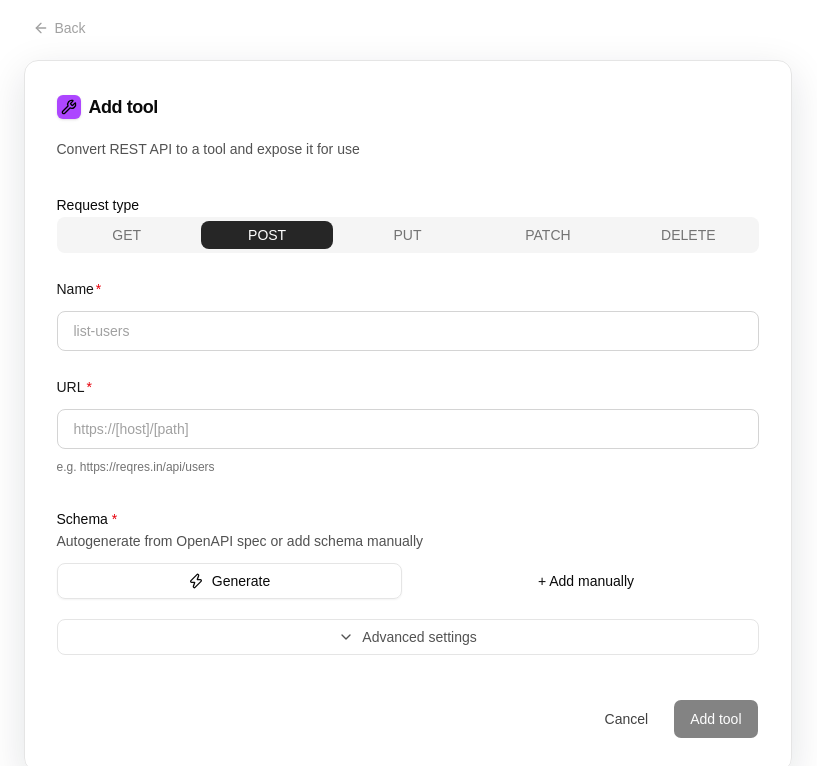
it: ToolForm › Accessibility – submit error announcement › submit error has role=alert so screen readers announce it
The width and height of the screenshot is (817, 766).
In the field labelled "Name *": x=408, y=331 [56, 311, 758, 351], type "duplicate-tool"
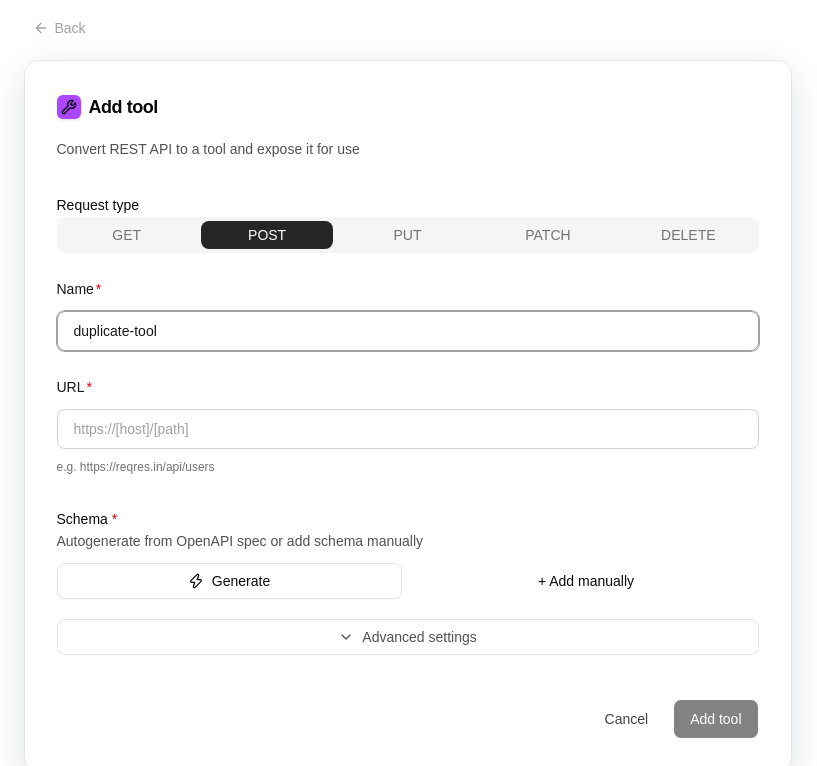
In the field labelled "URL *": x=408, y=429 [56, 409, 758, 449], type "https://api.example.com"
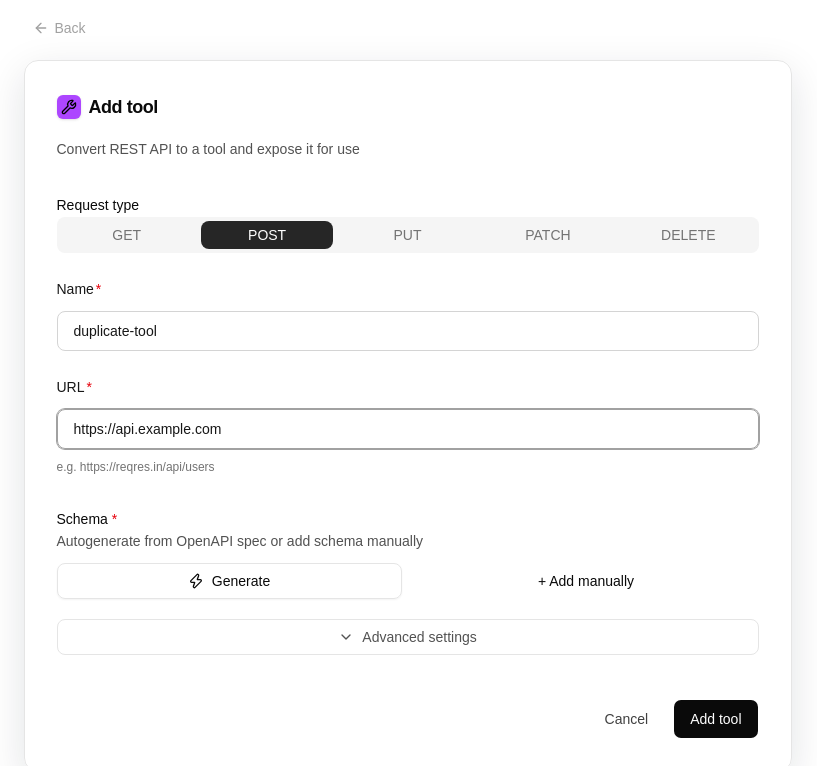
Click the button "Add tool": x=716, y=719 [673, 699, 758, 739]
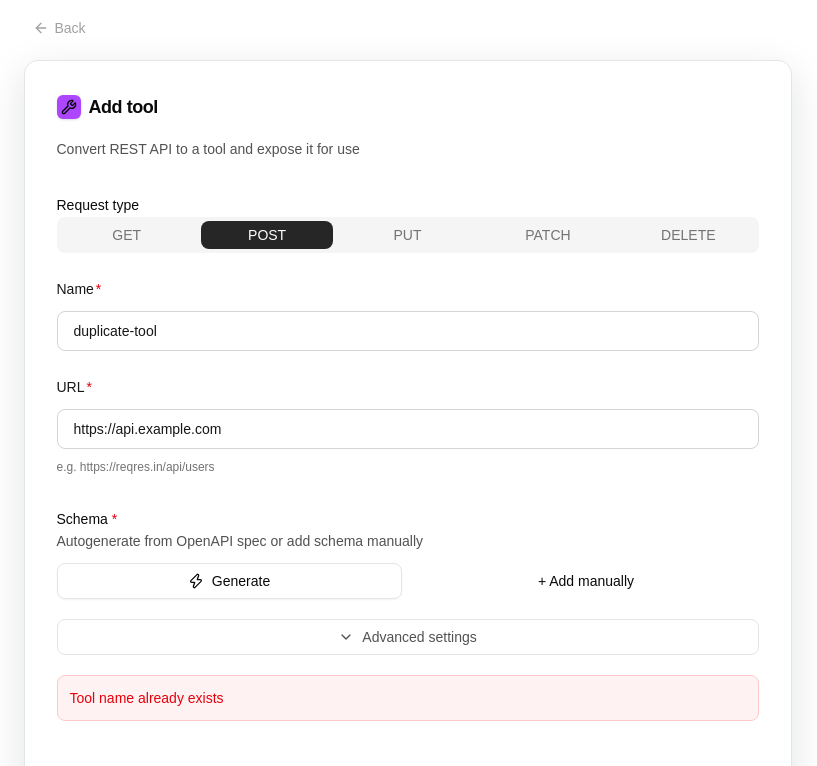
Expected: the message "Tool name already exists" is shown, [56, 675, 758, 721]
